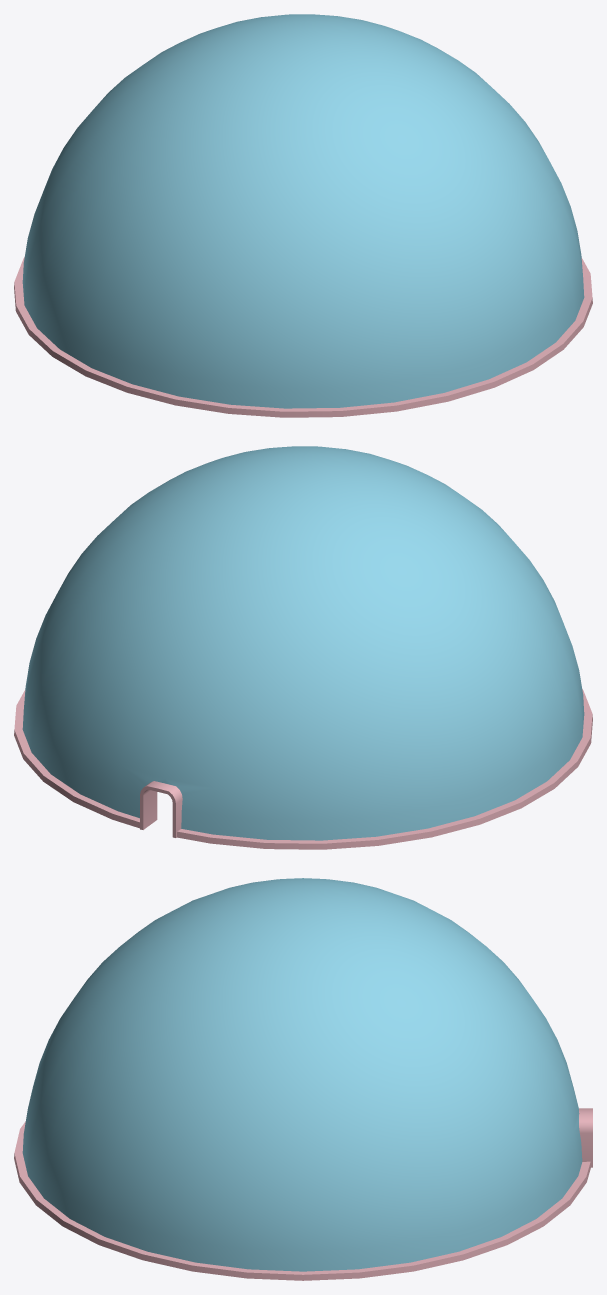
Rendered from GlassDome_01_15r.fbx.
The picture shows the model from 3 angles, top to bottom: view 1: azimuth 30°, elevation 25°; view 2: azimuth 150°, elevation 25°; view 3: azimuth 270°, elevation 25°; orthographic projection.
Visible parts, largest first — view 1: Cylinder.003; view 2: Cylinder.003; view 3: Cylinder.003.
Part boxes in pixels (x1,y1,x2,y2): Cylinder.003: (14,14,592,417); Cylinder.003: (14,446,592,849); Cylinder.003: (14,878,592,1280).
Bounding box in the file's own units: 3090 × 1500 × 3093.
